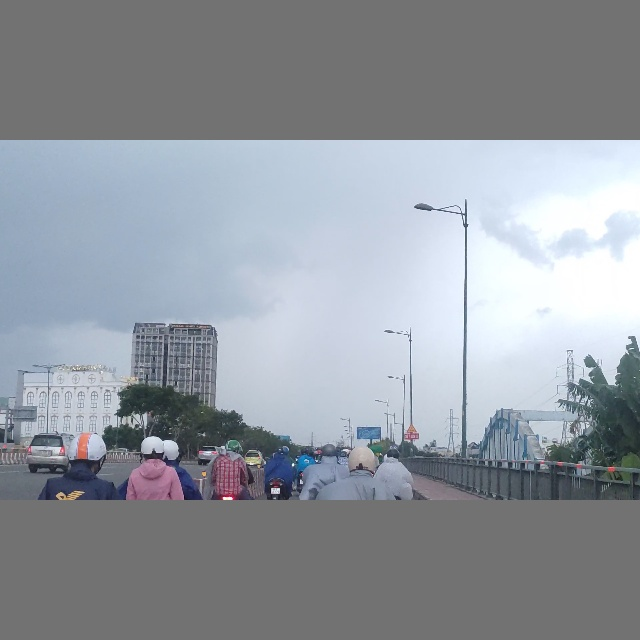W.245a: (406, 423, 417, 433)
